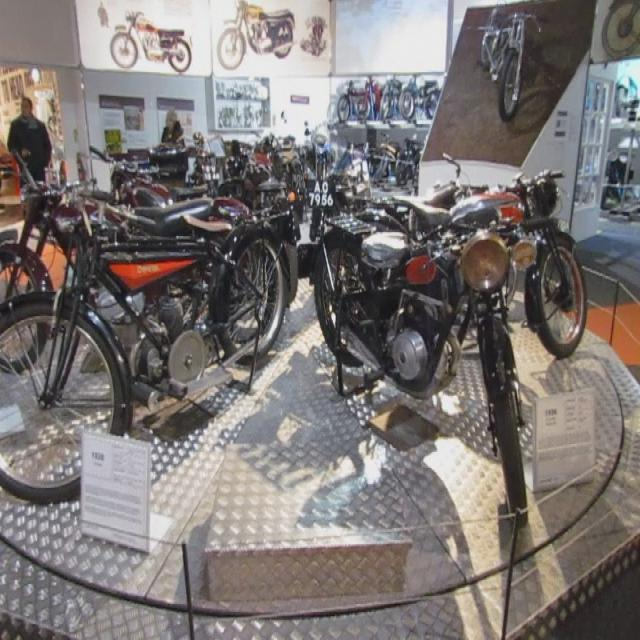motor: (0, 211, 301, 507), (297, 187, 537, 528), (1, 156, 225, 374), (415, 152, 588, 361), (89, 144, 217, 210), (145, 133, 246, 196), (216, 0, 299, 70), (110, 10, 192, 74), (252, 178, 297, 216)
